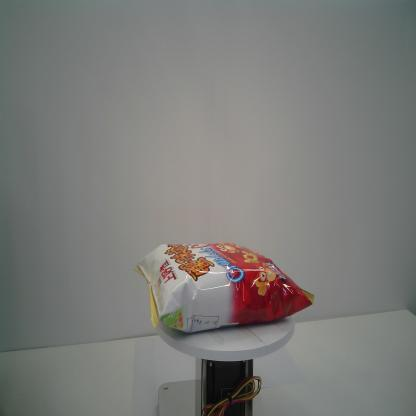Puffed Food: (132, 238, 315, 334)
